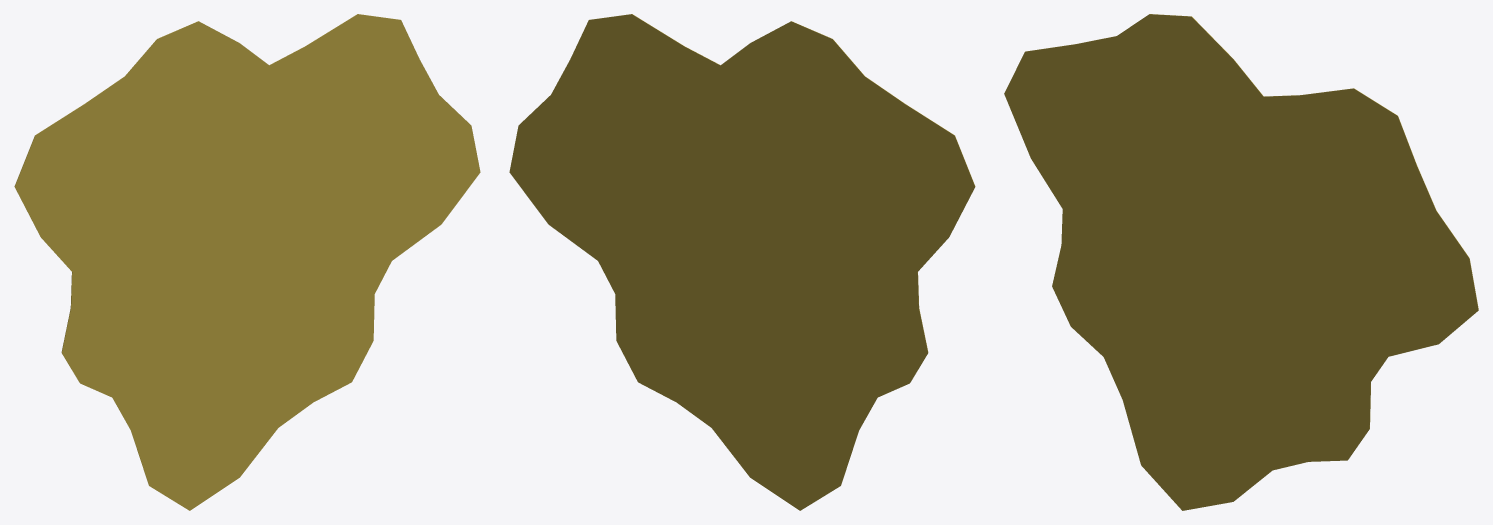
File: Stain.fbx
The picture shows the model from 3 angles, left to right: view 1: azimuth 30°, elevation 25°; view 2: azimuth 150°, elevation 25°; view 3: azimuth 330°, elevation 25°; orthographic projection.
Visible parts, largest first — view 1: Stain; view 2: Stain; view 3: Stain.
Part boxes in pixels (left/top/right/bottom): Stain: left=14, top=14, right=480, bottom=510; Stain: left=509, top=14, right=975, bottom=510; Stain: left=1004, top=14, right=1478, bottom=510.
Bounding box in the file's own units: 1 × 1 × 0.001.
